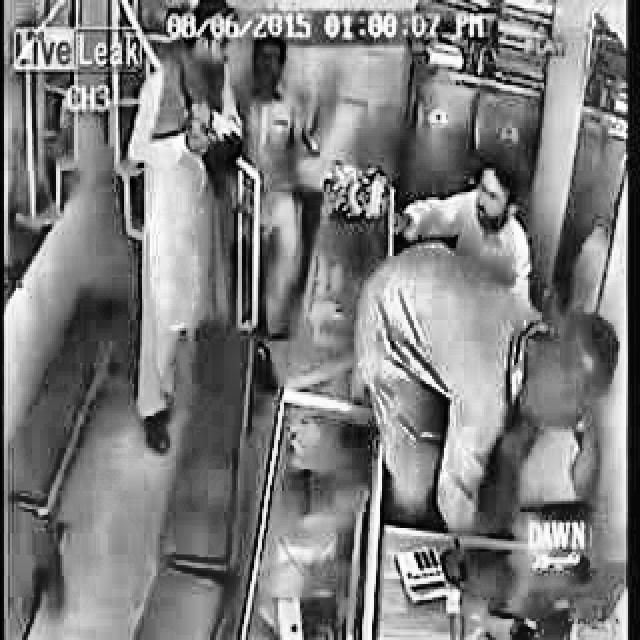robbery: (351, 241, 625, 531), (130, 2, 252, 460)
